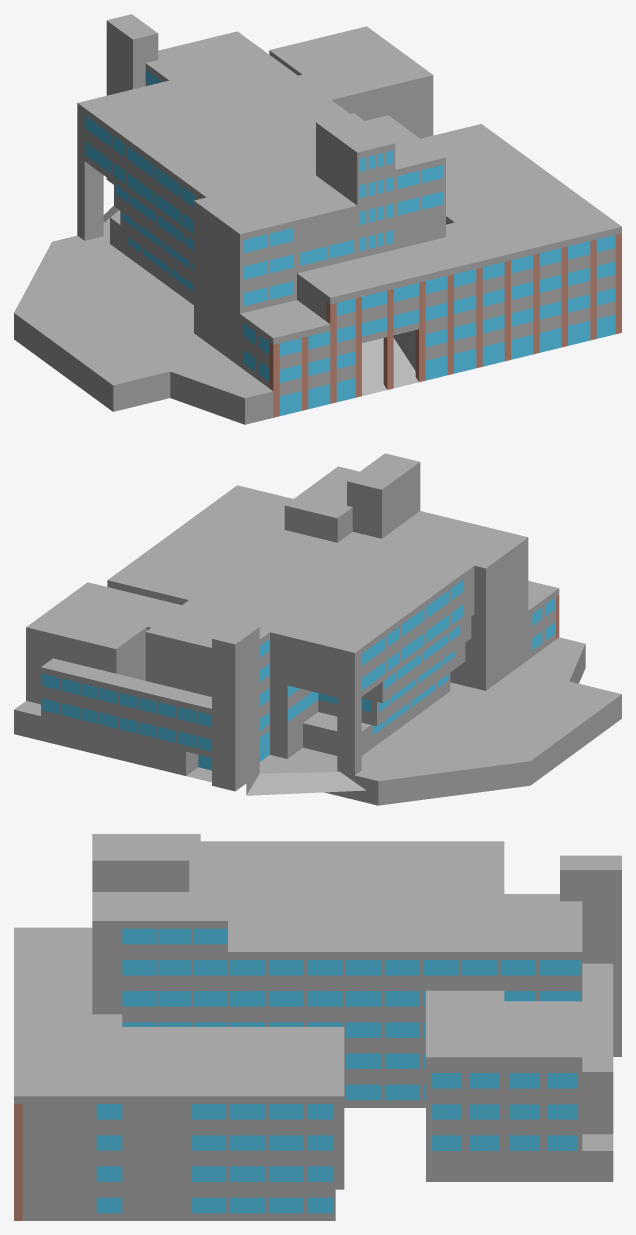
File: BiMa.glb
3 renders of one model, top to bottom at view 1: azimuth 30°, elevation 25°; view 2: azimuth 150°, elevation 25°; view 3: azimuth 270°, elevation 25°, orthographic. The views are drawn at different scales.
Parts seen in each view (by area): view 1: Main, Window, Pillars; view 2: Main, Window; view 3: Main, Window, Pillars.
Boxes of the visible parts, bbox=[...] form: Main: bbox=[14, 14, 621, 424]; Window: bbox=[84, 70, 615, 415]; Pillars: bbox=[269, 233, 621, 417]; Main: bbox=[14, 453, 621, 805]; Window: bbox=[42, 580, 555, 770]; Main: bbox=[14, 834, 621, 1220]; Window: bbox=[96, 928, 580, 1213]; Pillars: bbox=[14, 1104, 22, 1220].
Size of the model in its own units: 73 by 32 by 70.7.
